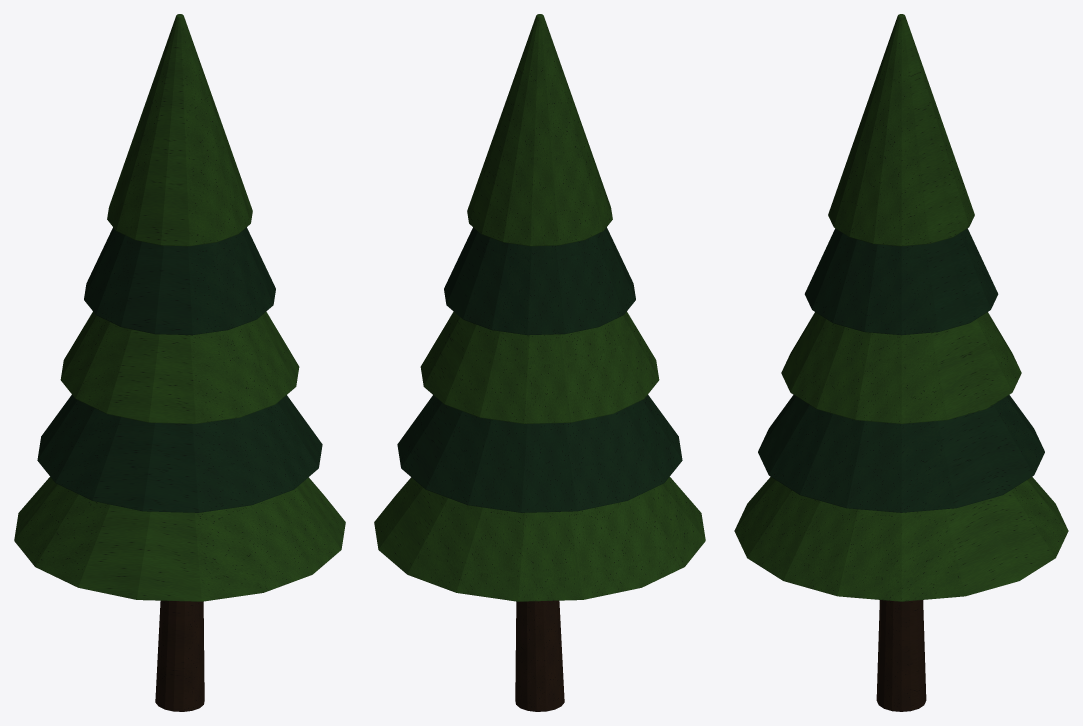
Rendered from PROP-C1E201B52957_lod0.glb.
The picture shows the model from 3 angles, left to right: view 1: azimuth 30°, elevation 25°; view 2: azimuth 150°, elevation 25°; view 3: azimuth 270°, elevation 25°; orthographic projection.
Visible parts, largest first — view 1: layered_conifer_crown.038, layered_conifer_crown.039, trunk.057; view 2: layered_conifer_crown.038, layered_conifer_crown.039, trunk.057; view 3: layered_conifer_crown.038, layered_conifer_crown.039, trunk.057.
Part boxes in pixels (left/top/right/bottom): layered_conifer_crown.038: left=14, top=14, right=345, bottom=601; layered_conifer_crown.039: left=37, top=227, right=322, bottom=512; trunk.057: left=155, top=600, right=204, bottom=711; layered_conifer_crown.038: left=374, top=14, right=705, bottom=601; layered_conifer_crown.039: left=397, top=227, right=682, bottom=512; trunk.057: left=515, top=600, right=564, bottom=711; layered_conifer_crown.038: left=734, top=14, right=1068, bottom=601; layered_conifer_crown.039: left=758, top=228, right=1044, bottom=512; trunk.057: left=876, top=600, right=926, bottom=711.
Bounding box in the file's own units: 3.22 × 7.3 × 3.22.
Materials: 3 (3 with a texture image).
